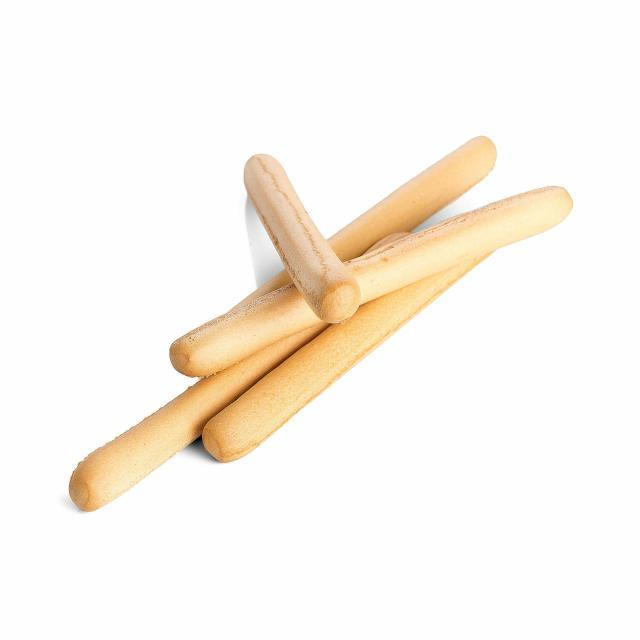Grissini: (71, 132, 576, 519)
